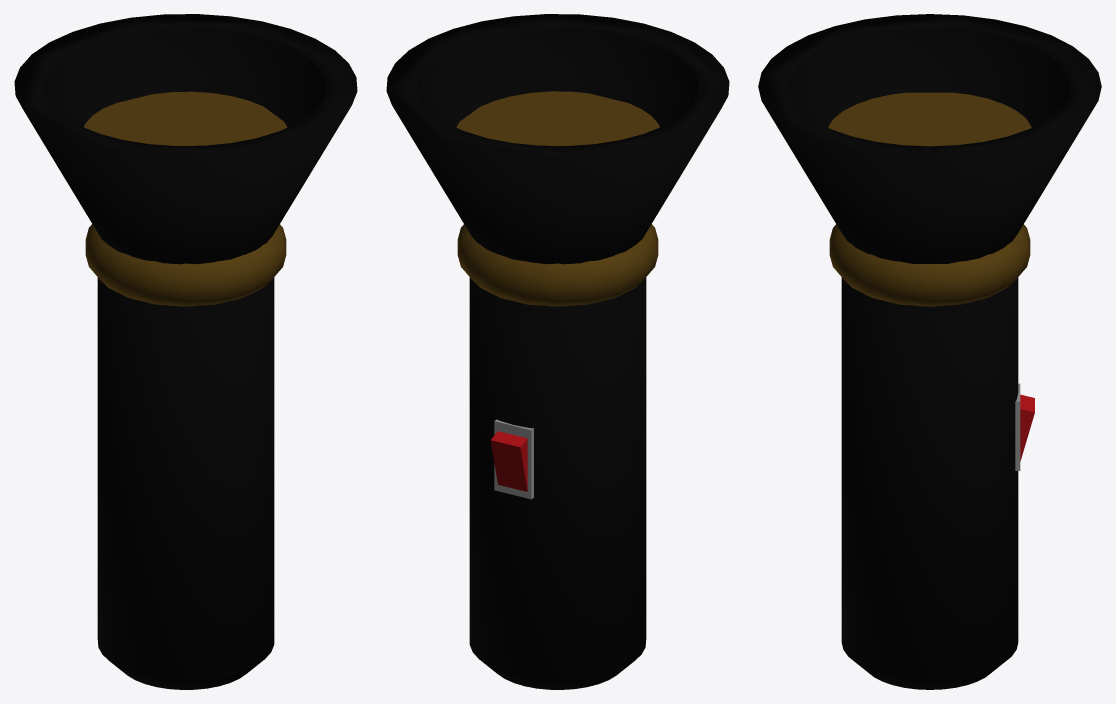
File: torch.gltf
The picture shows the model from 3 angles, left to right: view 1: azimuth 30°, elevation 25°; view 2: azimuth 150°, elevation 25°; view 3: azimuth 270°, elevation 25°; orthographic projection.
Visible parts, largest first — view 1: Cylinder, Cone, Torus, Plane; view 2: Cylinder, Cone, Torus, Plane, Cube.001, Cube; view 3: Cylinder, Cone, Torus, Plane, Cube.001.
Part boxes in pixels (bbox=[...]): Cylinder: bbox=[97, 277, 274, 689]; Cone: bbox=[14, 14, 357, 264]; Torus: bbox=[85, 224, 286, 306]; Plane: bbox=[84, 91, 287, 145]; Cylinder: bbox=[469, 277, 646, 689]; Cone: bbox=[386, 14, 729, 264]; Torus: bbox=[457, 224, 658, 306]; Plane: bbox=[456, 91, 659, 145]; Cube.001: bbox=[490, 431, 527, 491]; Cube: bbox=[494, 419, 533, 499]; Cylinder: bbox=[841, 277, 1018, 689]; Cone: bbox=[758, 14, 1101, 263]; Torus: bbox=[829, 224, 1030, 306]; Plane: bbox=[828, 92, 1031, 146]; Cube.001: bbox=[1020, 394, 1034, 461].
Bounding box in the file's own units: 0.16 × 0.2984 × 0.16.
